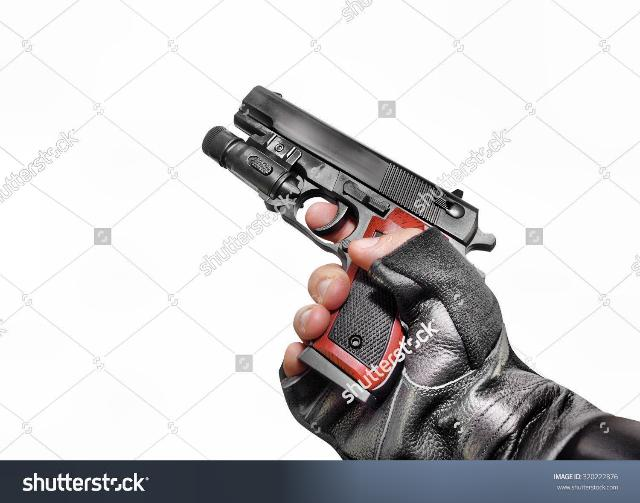pistol: (198, 82, 502, 402)
